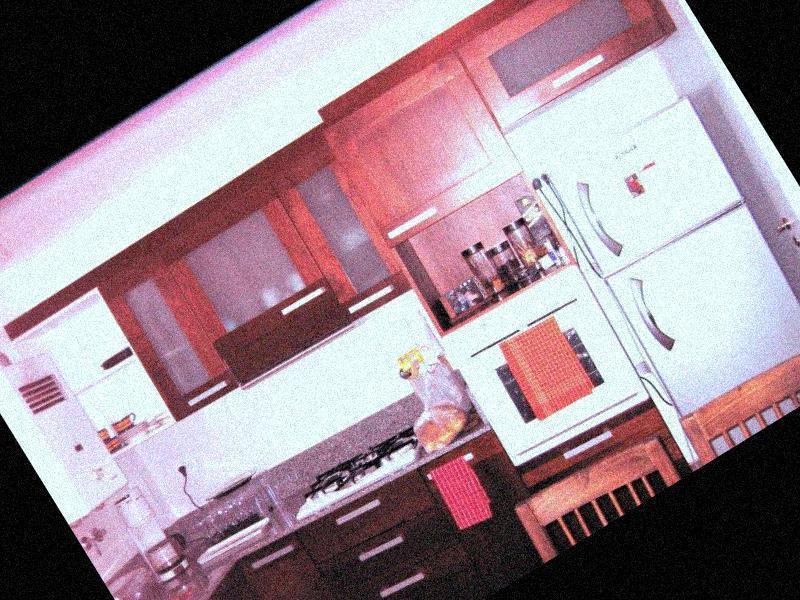Electrodomestico: (532, 88, 800, 420), (446, 265, 652, 477)
